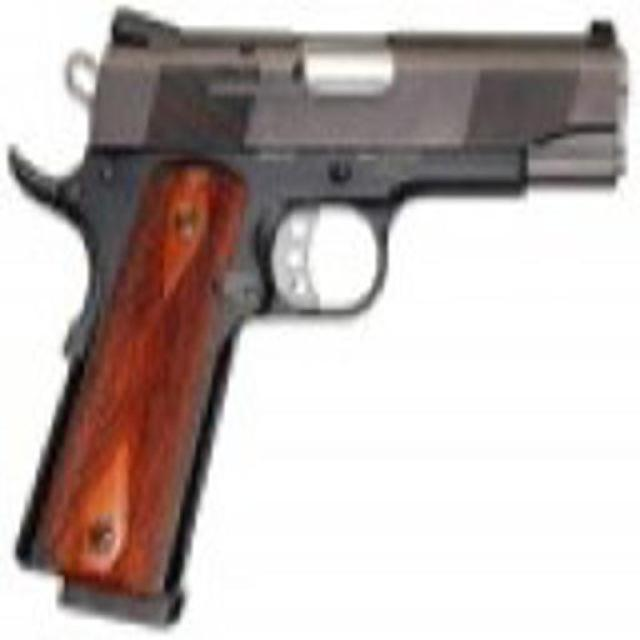pistol: (4, 5, 624, 612)
